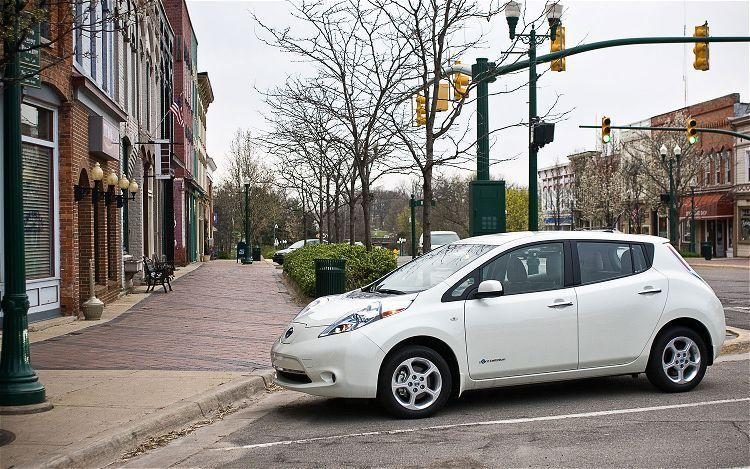car: (269, 219, 732, 417)
